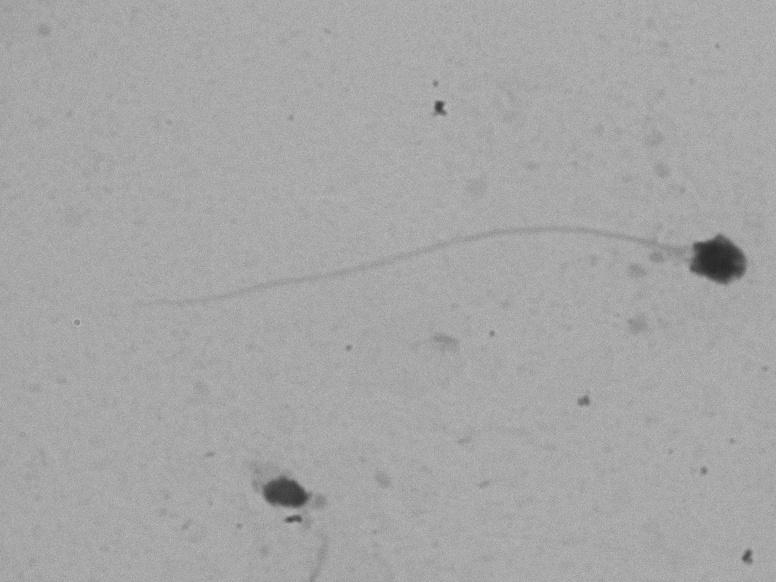Abnormal: (96, 185, 763, 388)
